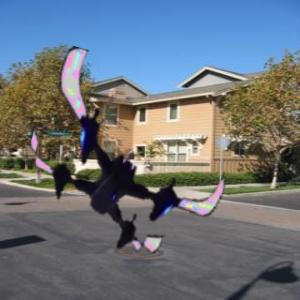drone: (21, 65, 232, 276)
